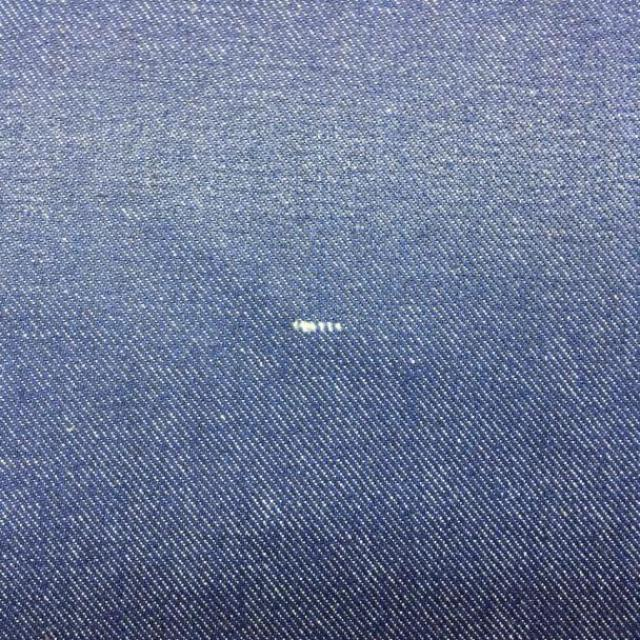Knot: (293, 321, 343, 333)
